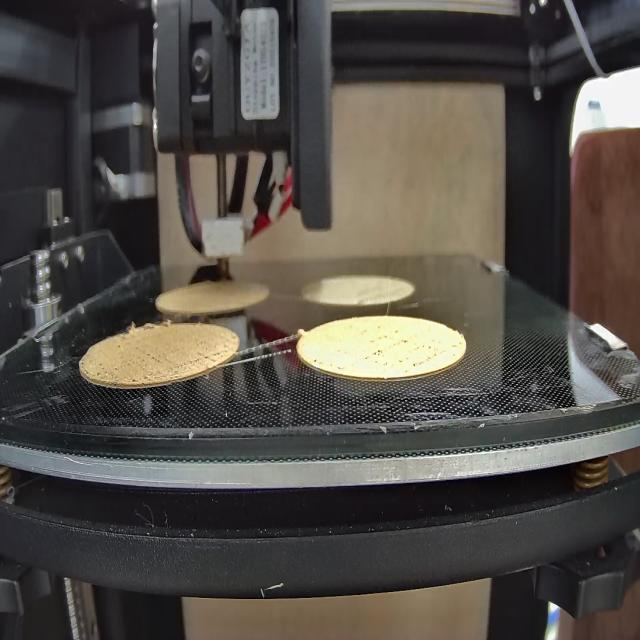under_extrusion: (364, 322, 440, 370), (98, 338, 161, 389), (190, 342, 228, 366), (312, 356, 342, 370)
